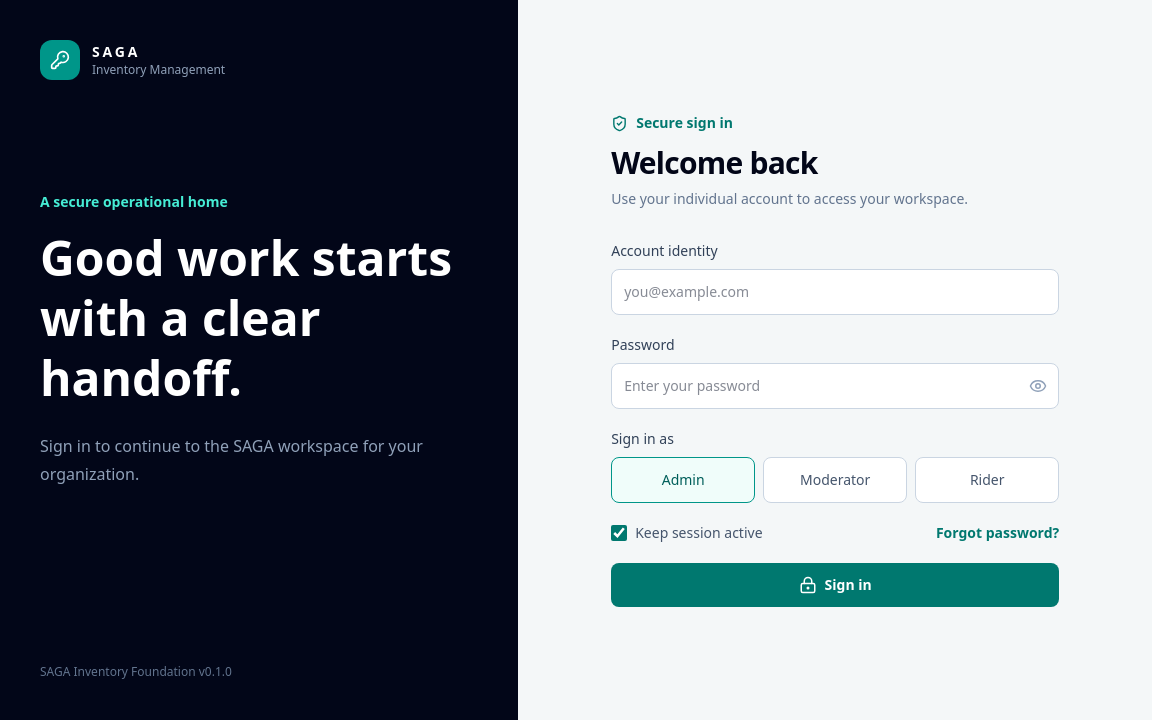
Test case: toggles password visibility without leaving the form
Expected: the heading "Welcome back" is shown, [611,142,818,183]
Type "temporary-password" into the password field with placeholder "Enter your password". click: point(835, 386)
box: [611,363,1059,409]
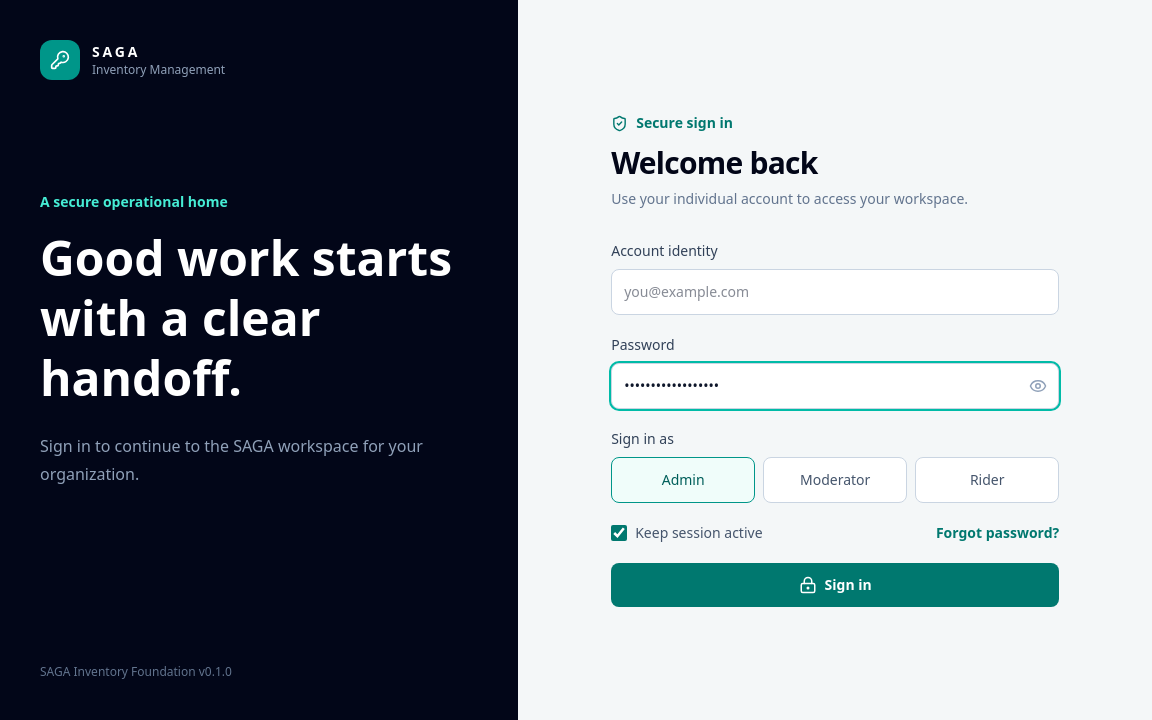
Click the button named "Show password". click: point(1038, 386)
box: [1029,377,1047,395]
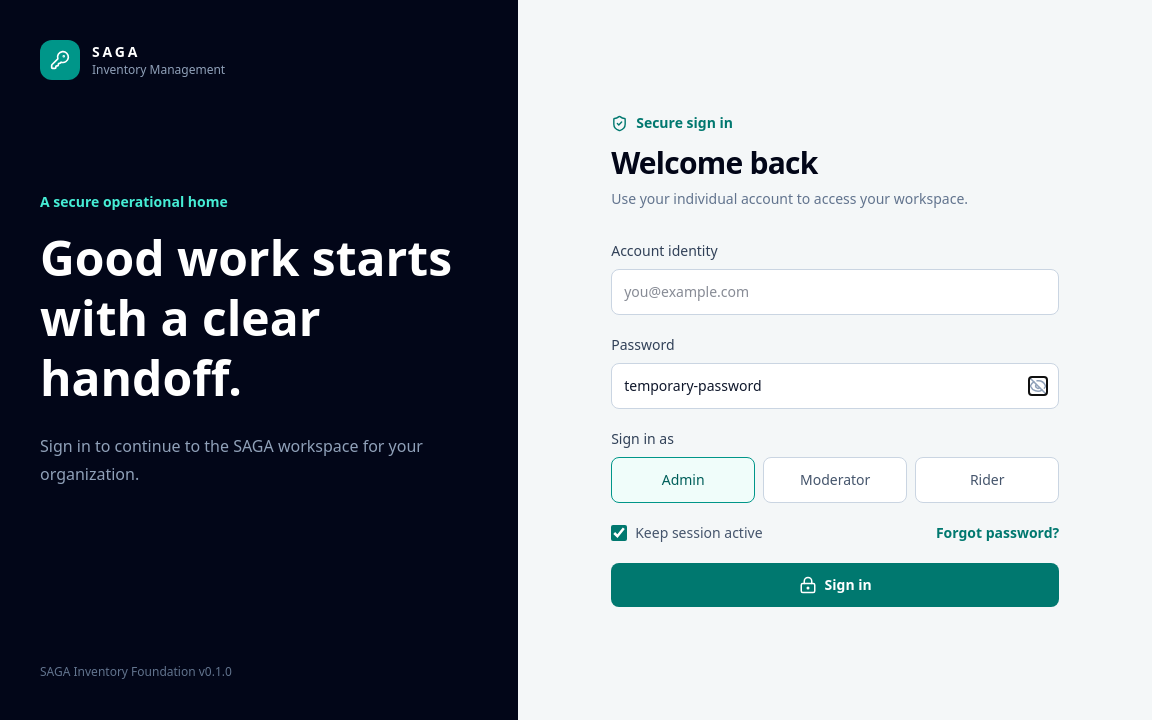
Expected: the field with placeholder "Enter your password" shows its text, [611,363,1059,409]
Expected: the button named "Hide password" is shown, [1029,377,1047,395]
